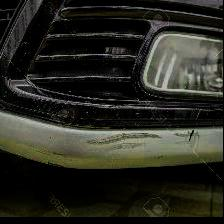bumper_scratch: (30, 106, 215, 170)
